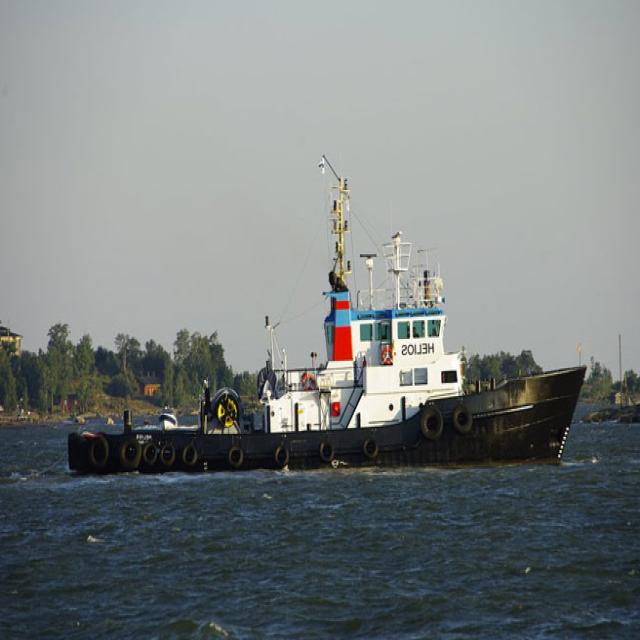fishing boat: (56, 167, 583, 476)
